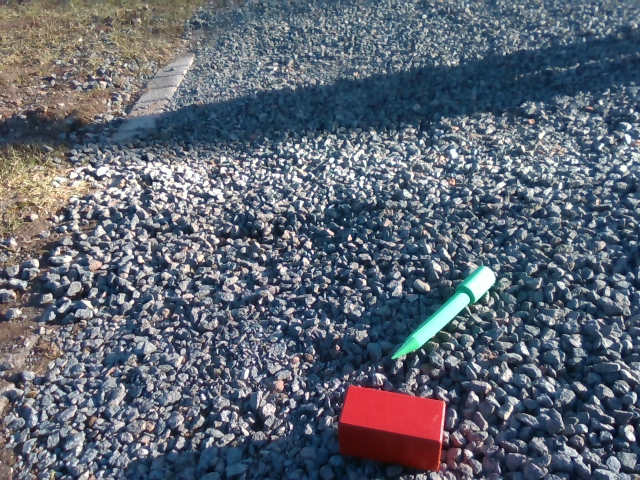Probe: (391, 261, 500, 360)
